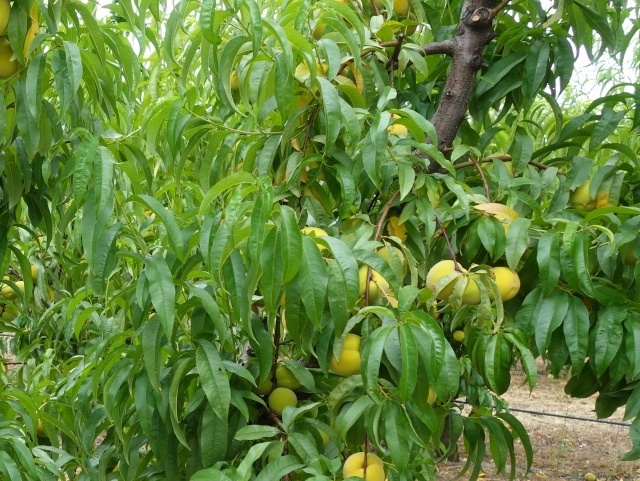peach: (355, 256, 393, 310), (331, 330, 372, 377), (426, 257, 465, 303), (337, 448, 389, 481), (300, 221, 339, 260), (485, 263, 522, 303), (568, 175, 600, 215), (265, 384, 298, 418), (270, 359, 303, 393)
